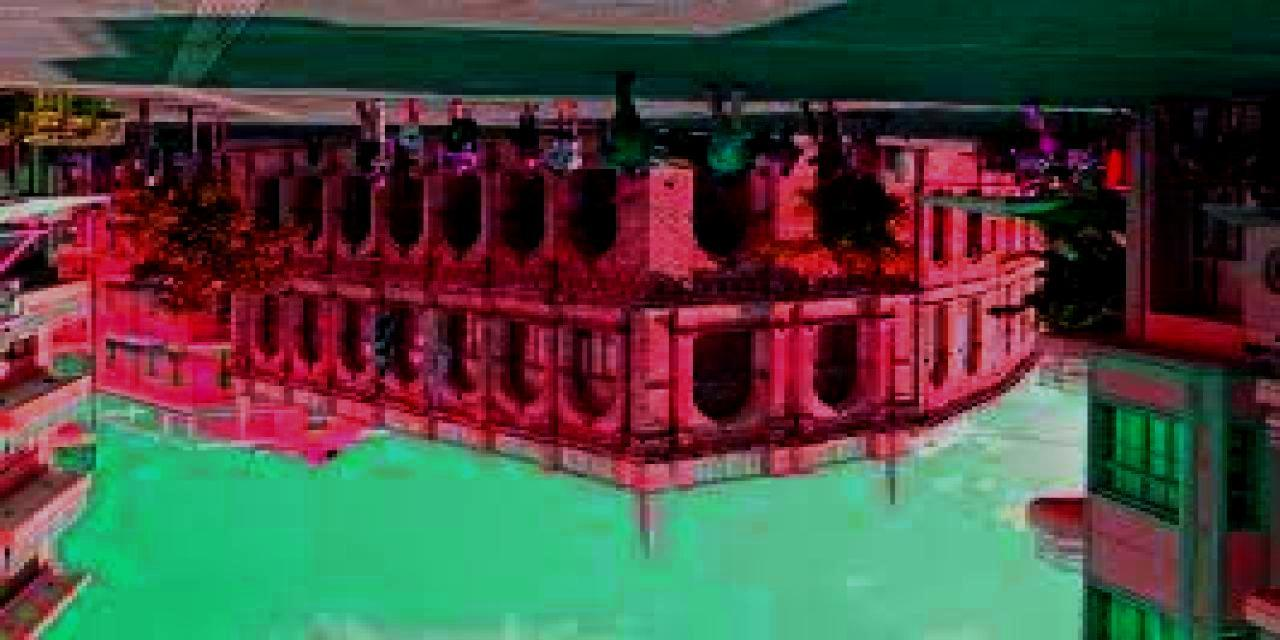Loggia: (216, 148, 1067, 541)
